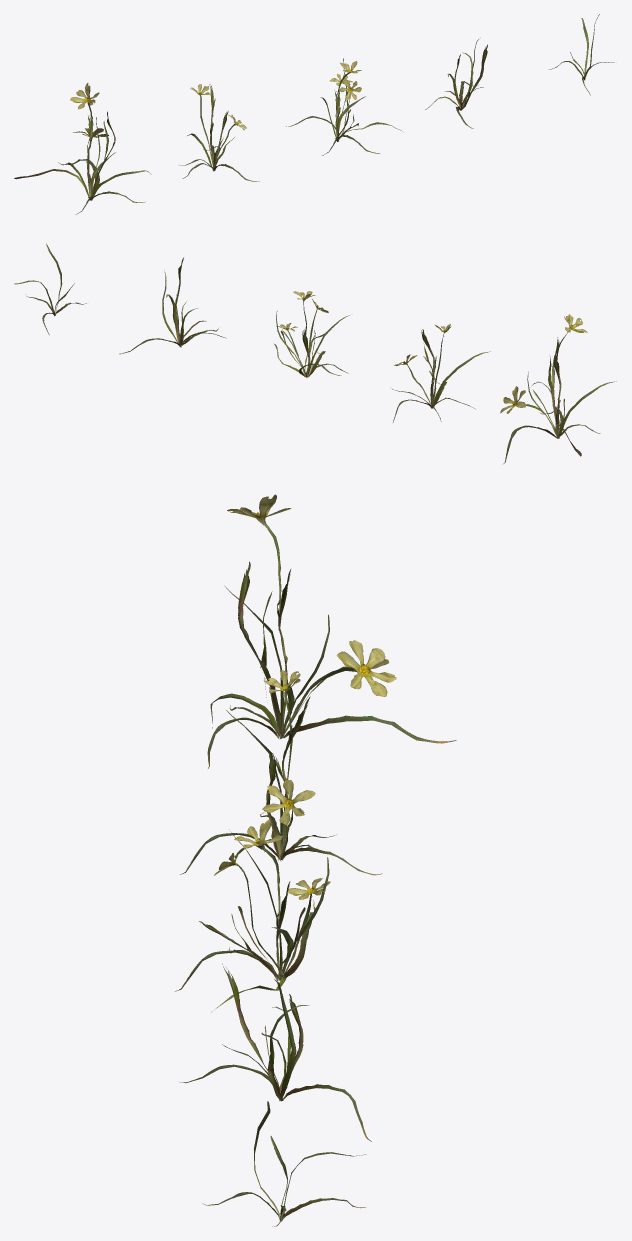
The model's file is flower_empodium.glb.
3 views of the same model, one above another, from view 1: azimuth 30°, elevation 25°; view 2: azimuth 150°, elevation 25°; view 3: azimuth 270°, elevation 25° (orthographic). The views are drawn at different scales.
Visible parts, largest first — view 1: flower_empodium_a_LOD0, flower_empodium_c_LOD0, flower_empodium_b_LOD0, flower_empodium_d_LOD0, flower_empodium_e_LOD0; view 2: flower_empodium_a_LOD0, flower_empodium_c_LOD0, flower_empodium_b_LOD0, flower_empodium_d_LOD0, flower_empodium_e_LOD0; view 3: flower_empodium_a_LOD0, flower_empodium_c_LOD0, flower_empodium_b_LOD0, flower_empodium_d_LOD0, flower_empodium_e_LOD0.
Part boxes in pixels (x1=…): flower_empodium_a_LOD0: x1=14, y1=83, x2=151, y2=214; flower_empodium_c_LOD0: x1=286, y1=58, x2=402, y2=155; flower_empodium_b_LOD0: x1=179, y1=84, x2=259, y2=181; flower_empodium_d_LOD0: x1=425, y1=39, x2=487, y2=128; flower_empodium_e_LOD0: x1=548, y1=14, x2=614, y2=95; flower_empodium_a_LOD0: x1=500, y1=314, x2=616, y2=463; flower_empodium_c_LOD0: x1=274, y1=291, x2=349, y2=377; flower_empodium_b_LOD0: x1=390, y1=324, x2=489, y2=422; flower_empodium_d_LOD0: x1=119, y1=257, x2=226, y2=354; flower_empodium_e_LOD0: x1=14, y1=243, x2=86, y2=335; flower_empodium_a_LOD0: x1=207, y1=494, x2=456, y2=768; flower_empodium_c_LOD0: x1=175, y1=819, x2=330, y2=1012; flower_empodium_b_LOD0: x1=180, y1=670, x2=382, y2=875; flower_empodium_d_LOD0: x1=180, y1=963, x2=371, y2=1141; flower_empodium_e_LOD0: x1=202, y1=1101, x2=366, y2=1226.
Bounding box in the file's own units: 1.32 × 0.2684 × 0.2841.
1 material, 1 textured.
